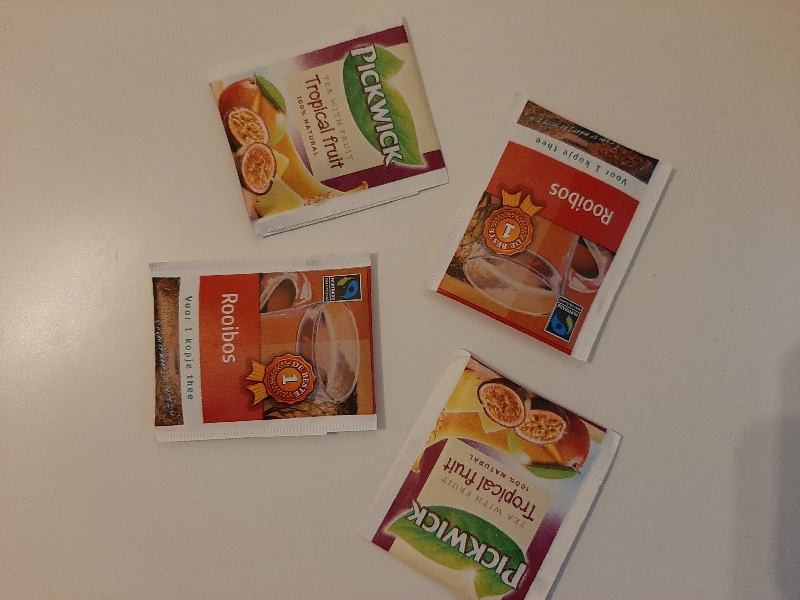rooibos: (425, 89, 679, 364), (144, 244, 389, 449)
tropisch: (357, 347, 634, 600), (206, 6, 452, 241)
